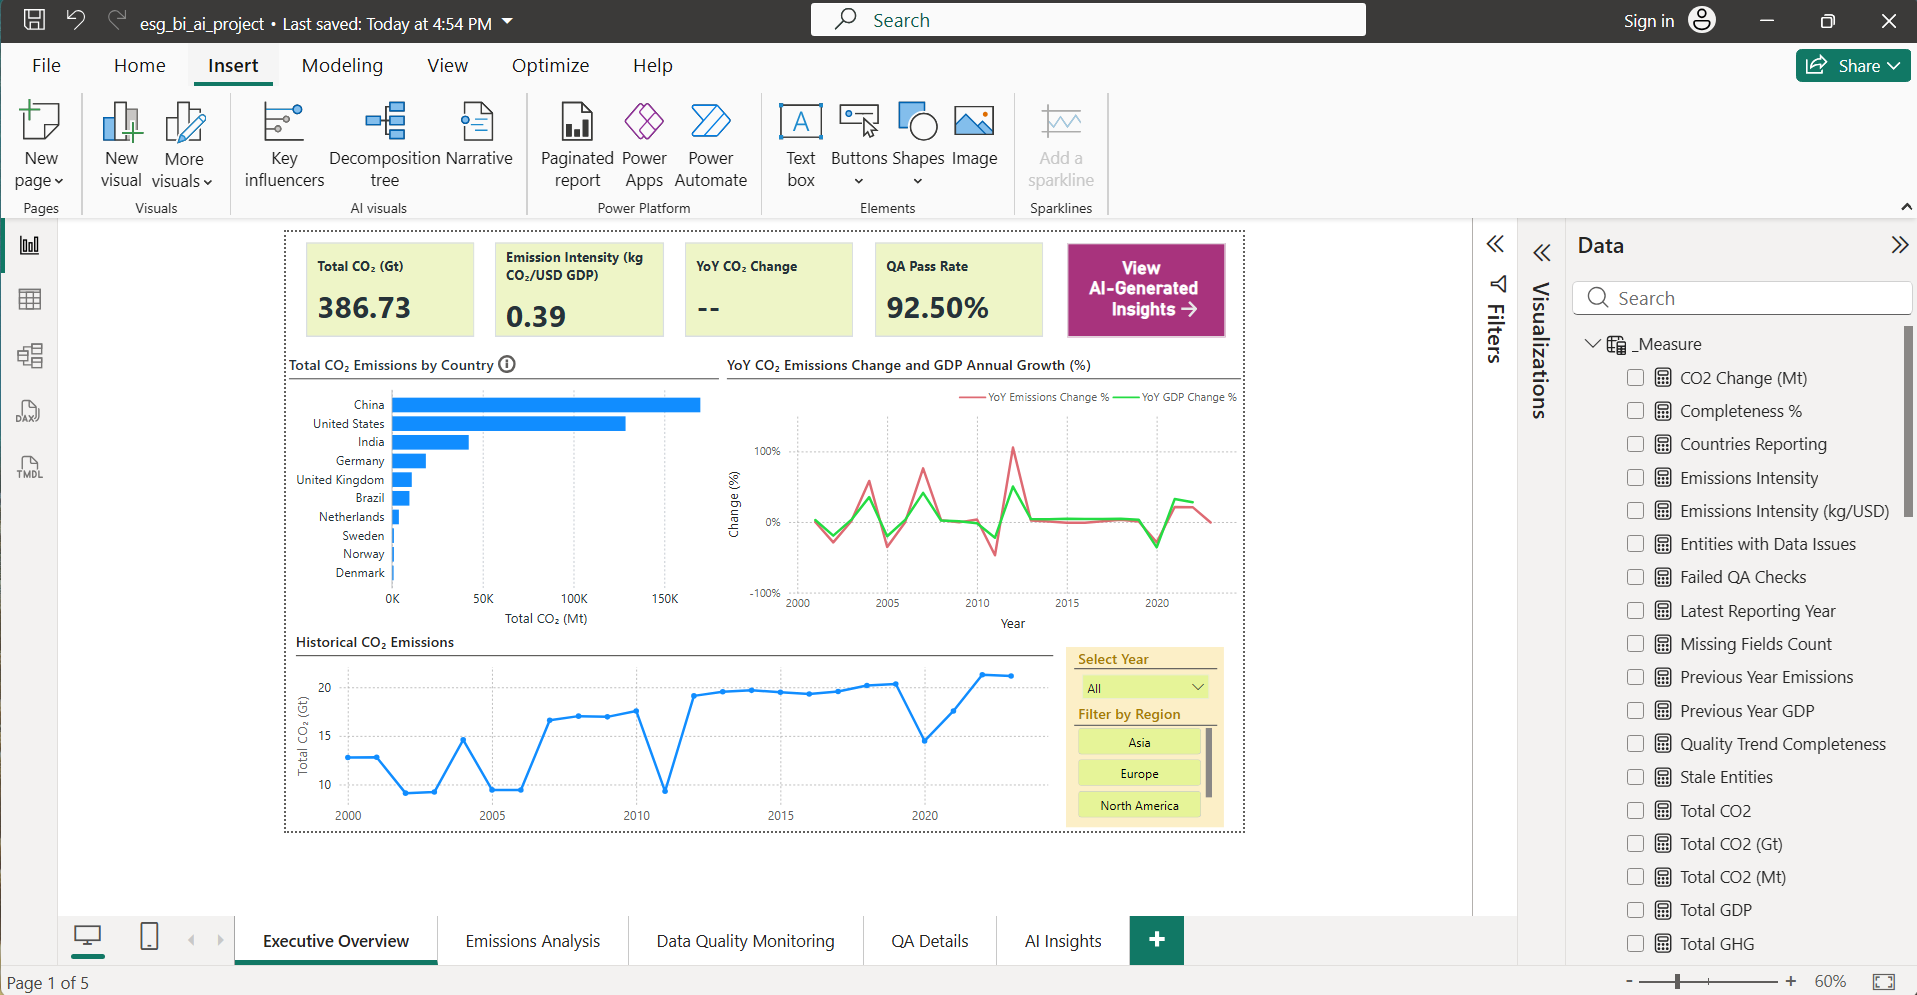

The dashboard page shown, as its layout file describes it:
{"tool":"powerbi","page":{"name":"Executive Overview","canvas":[1150,720],"ordinal":0},"visuals":[{"type":"clusteredBarChart","title":"Total CO₂ Emissions by Country","fields":{"Category":["DIM_ENTITY.entity_name"],"Y":["_Measure.Total CO2 (Mt)"]},"box":[3.3,141.7,516.7,343.3],"z":0},{"type":"actionButton","box":[250,143.3,41.7,30],"z":1000},{"type":"shape","box":[937.1,498.6,190,217.1],"z":1500,"group":"g1"},{"type":"cardVisual","fields":{"Data":["_Measure.YoY Emissions Change %"]},"box":[467.3,0,227.2,138.3],"z":2000,"group":"g2"},{"type":"lineChart","title":"YoY CO₂ Emissions Change and GDP Annual Growth (%)","fields":{"Category":["DIM_DATE.year"],"Y":["_Measure.YoY Emissions Change %","_Measure.YoY GDP Change %"]},"box":[521.7,146.7,626.7,335],"z":2000},{"type":"group","id":"g1","title":"Group 2","box":[937.1,498.6,190,217.1],"z":3000},{"type":"advancedSlicerVisual","title":"Filter by Region","fields":{"Values":["DIM_ENTITY.region"]},"box":[947.4,566.8,171.9,143.4],"z":3000,"group":"g1"},{"type":"cardVisual","fields":{"Data":["_Measure.Emissions Intensity (kg/USD)"]},"box":[238.9,0,228.4,138.3],"z":4000,"group":"g2"},{"type":"lineChart","title":"Historical CO₂ Emissions","fields":{"Category":["DIM_DATE.year"],"Y":["_Measure.Total CO2 (Gt)"]},"box":[11.4,480,910,238.6],"z":4000},{"type":"group","id":"g2","title":"Group 1","box":[11.7,0,910,138.3],"z":5000},{"type":"cardVisual","fields":{"Data":["_Measure.Validity %"]},"box":[694.5,0,227.2,138.3],"z":5000,"group":"g2"},{"type":"slicer","title":"Select Year","fields":{"Values":["DIM_DATE.year"]},"box":[947.7,499.9,171.9,65.7],"z":5000,"group":"g1"},{"type":"cardVisual","title":"Total CO₂ (Mt CO₂)","fields":{"Data":["_Measure.Total CO2 (Gt)"]},"box":[11.7,0,227.2,138.3],"z":5500,"group":"g2"},{"type":"textbox","box":[938.3,13.3,190,113.3],"z":6000},{"type":"actionButton","box":[1063.3,63.3,76.7,58.3],"z":7000}]}

Visuals, with their boxes on the page's 1150x720 design canvas (x1, y1, x2, y2). These are canvas units, not pixel positions in the 1917x995 screenshot, which may show the page scaled, cropped or inside an application window:
"Total CO₂ Emissions by Country" clusteredBarChart: l=3, t=142, r=520, b=485
actionButton: l=250, t=143, r=292, b=173
shape: l=937, t=499, r=1127, b=716
cardVisual - _Measure.YoY Emissions Change %: l=467, t=0, r=694, b=138
"YoY CO₂ Emissions Change and GDP Annual Growth (%)" lineChart: l=522, t=147, r=1148, b=482
"Group 2" group: l=937, t=499, r=1127, b=716
"Filter by Region" advancedSlicerVisual: l=947, t=567, r=1119, b=710
cardVisual - _Measure.Emissions Intensity (kg/USD): l=239, t=0, r=467, b=138
"Historical CO₂ Emissions" lineChart: l=11, t=480, r=921, b=719
"Group 1" group: l=12, t=0, r=922, b=138
cardVisual - _Measure.Validity %: l=694, t=0, r=922, b=138
"Select Year" slicer: l=948, t=500, r=1120, b=566
"Total CO₂ (Mt CO₂)" cardVisual: l=12, t=0, r=239, b=138
textbox: l=938, t=13, r=1128, b=127
actionButton: l=1063, t=63, r=1140, b=122
